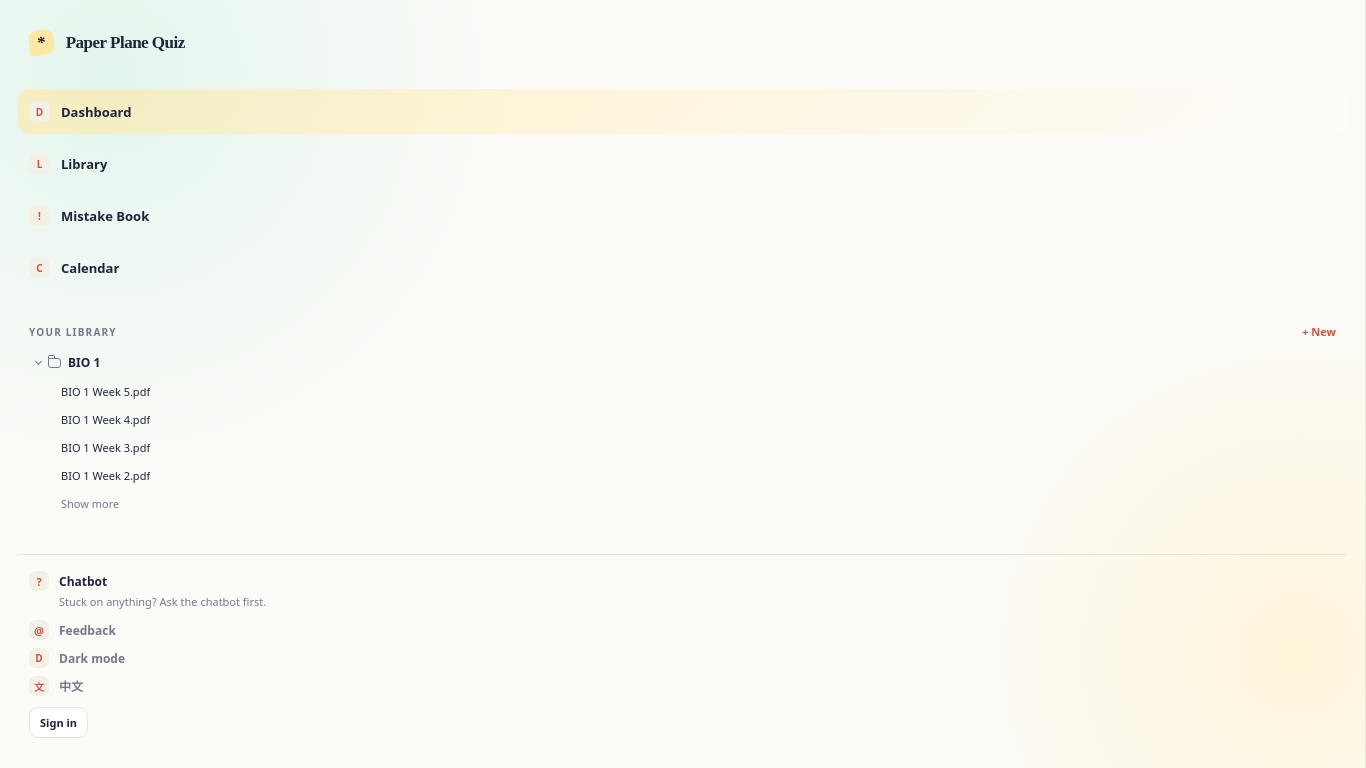
it: DashboardNavigation › folds a whole course away when its name is clicked, and remembers it was expanded
What coordinates should you click on to do the following:
click the button with aria-label "Show every file in BIO 1"
I would click on:
 (90, 504)
Its box is [55,491,125,516].
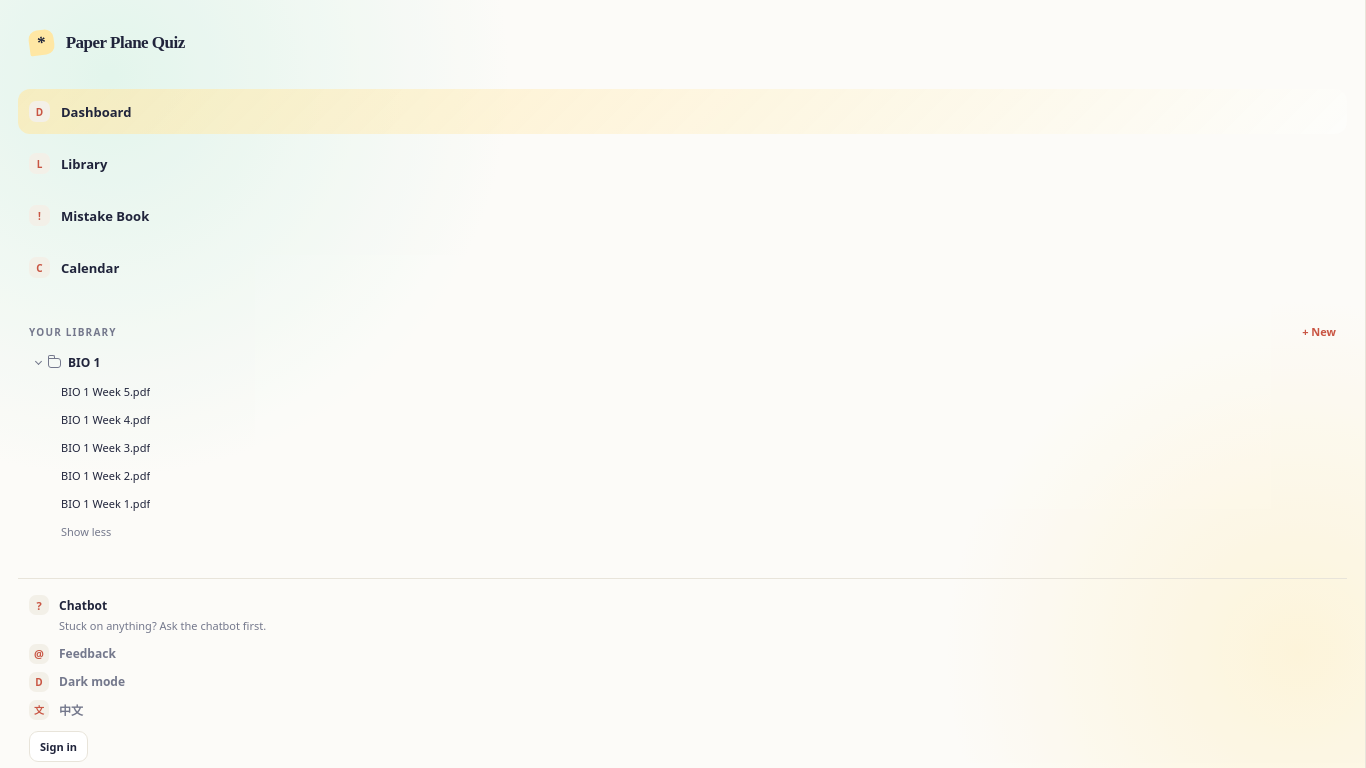
Now the number of links "BIO 1 Week 5.pdf" is 5, box [61,384,150,399]; [61,412,150,427]; [61,440,150,455]; [61,468,150,483]; [61,496,150,511]
What coordinates should you click on to do the following:
click the button "BIO 1"
I would click on:
 (84, 362)
Its box is [29,349,1336,376].
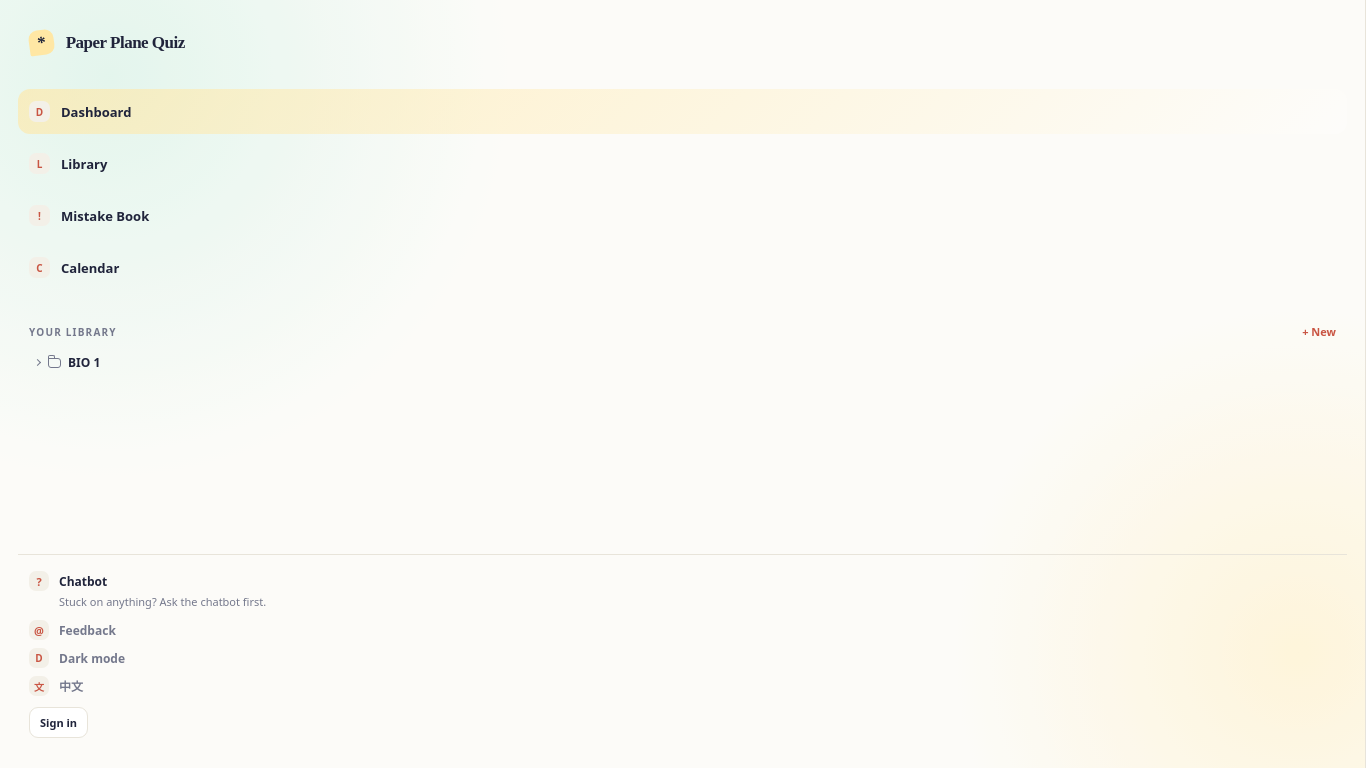
Now no links "BIO 1 Week" are shown
Now the button "Show" is gone
What coordinates should you click on to do the following:
click the button "BIO 1"
I would click on:
 (84, 362)
Its box is [29,349,1336,376].
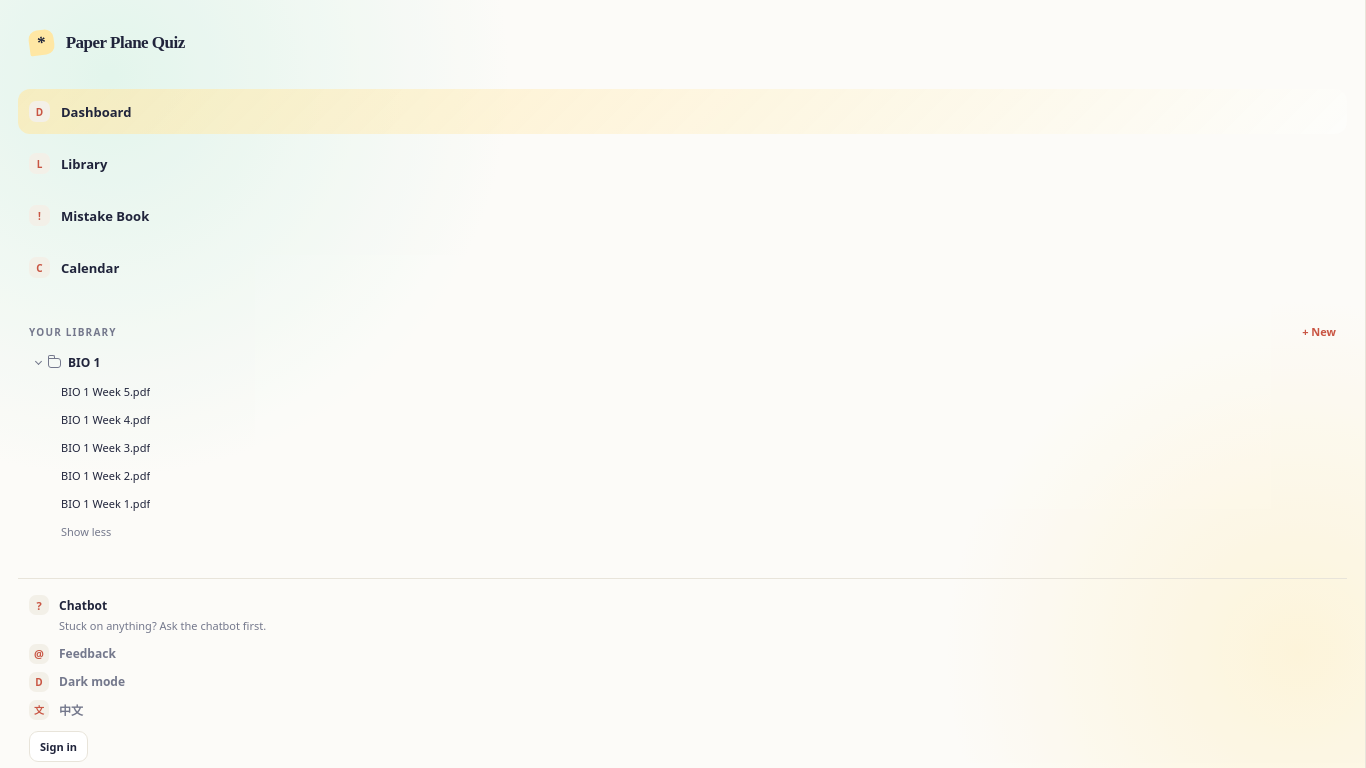
Now the number of links "BIO 1 Week 5.pdf" is 5, box [61,384,150,399]; [61,412,150,427]; [61,440,150,455]; [61,468,150,483]; [61,496,150,511]
